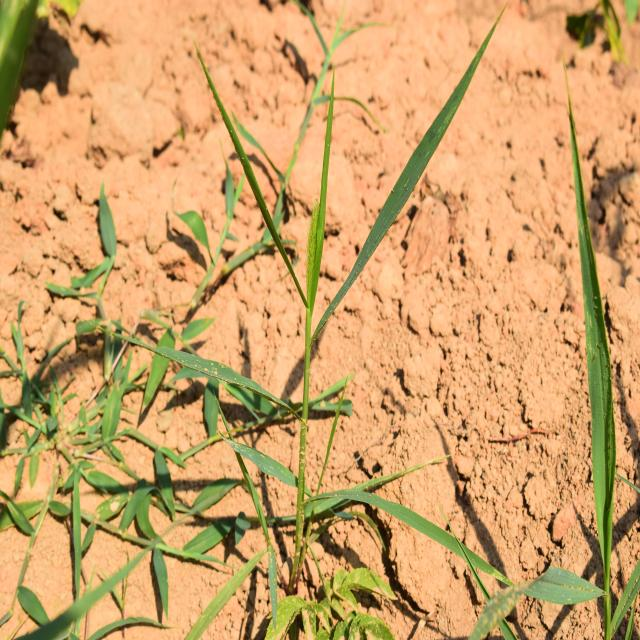green_foxtail: (248, 50, 454, 578)
